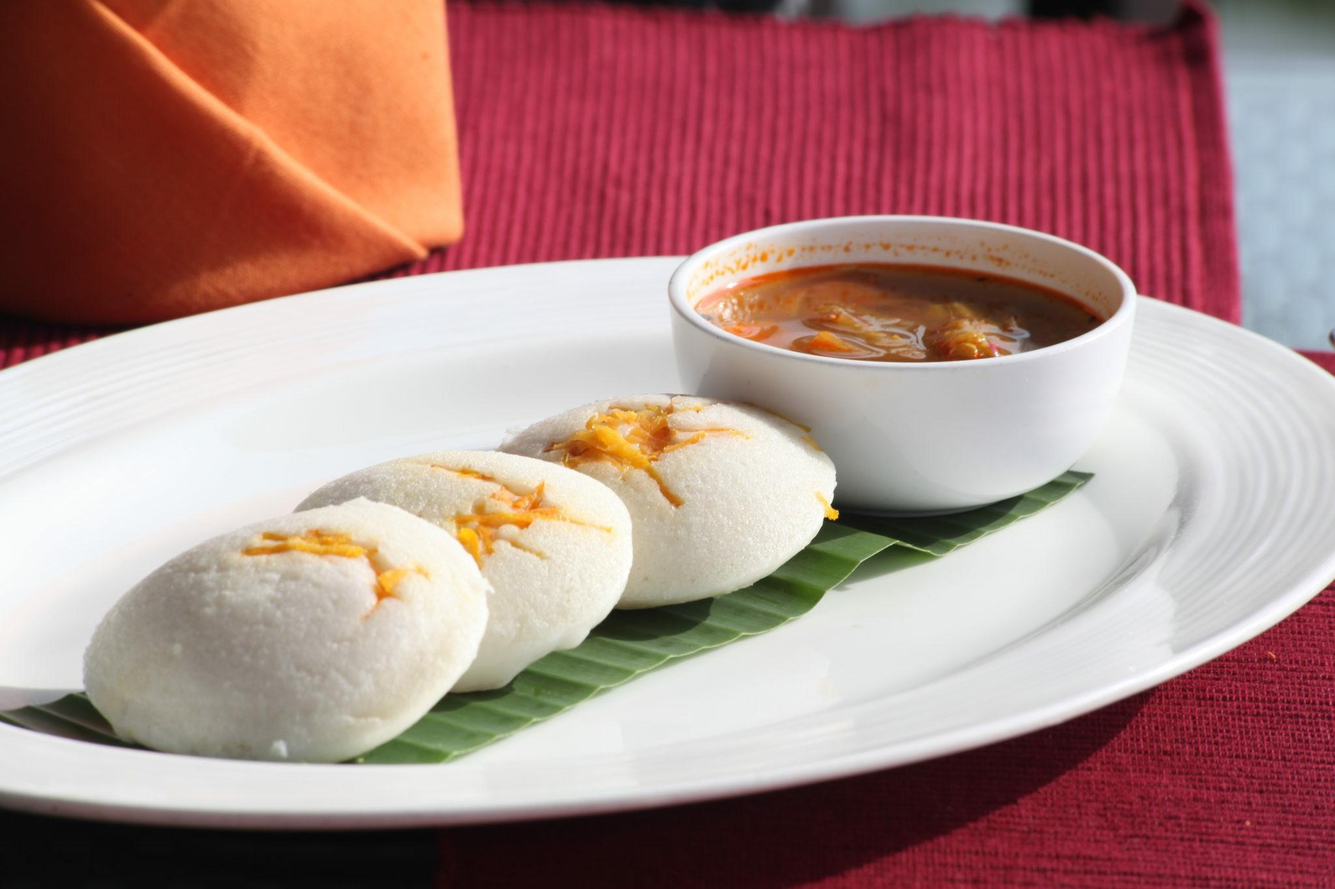Idli: (80, 493, 485, 764), (291, 449, 634, 689), (501, 392, 835, 616)
